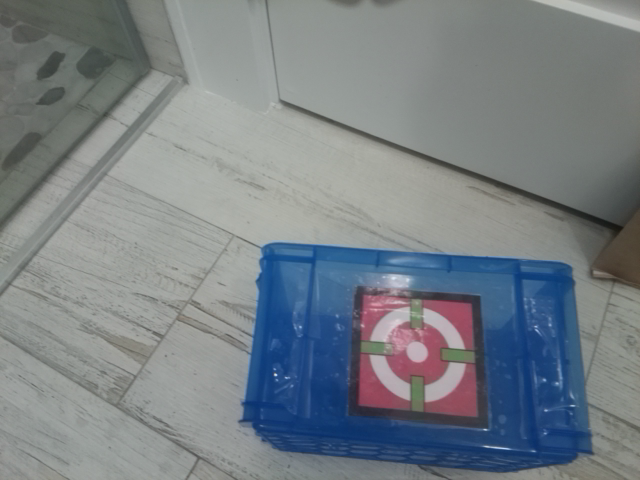drop-bin: (347, 284, 489, 428)
